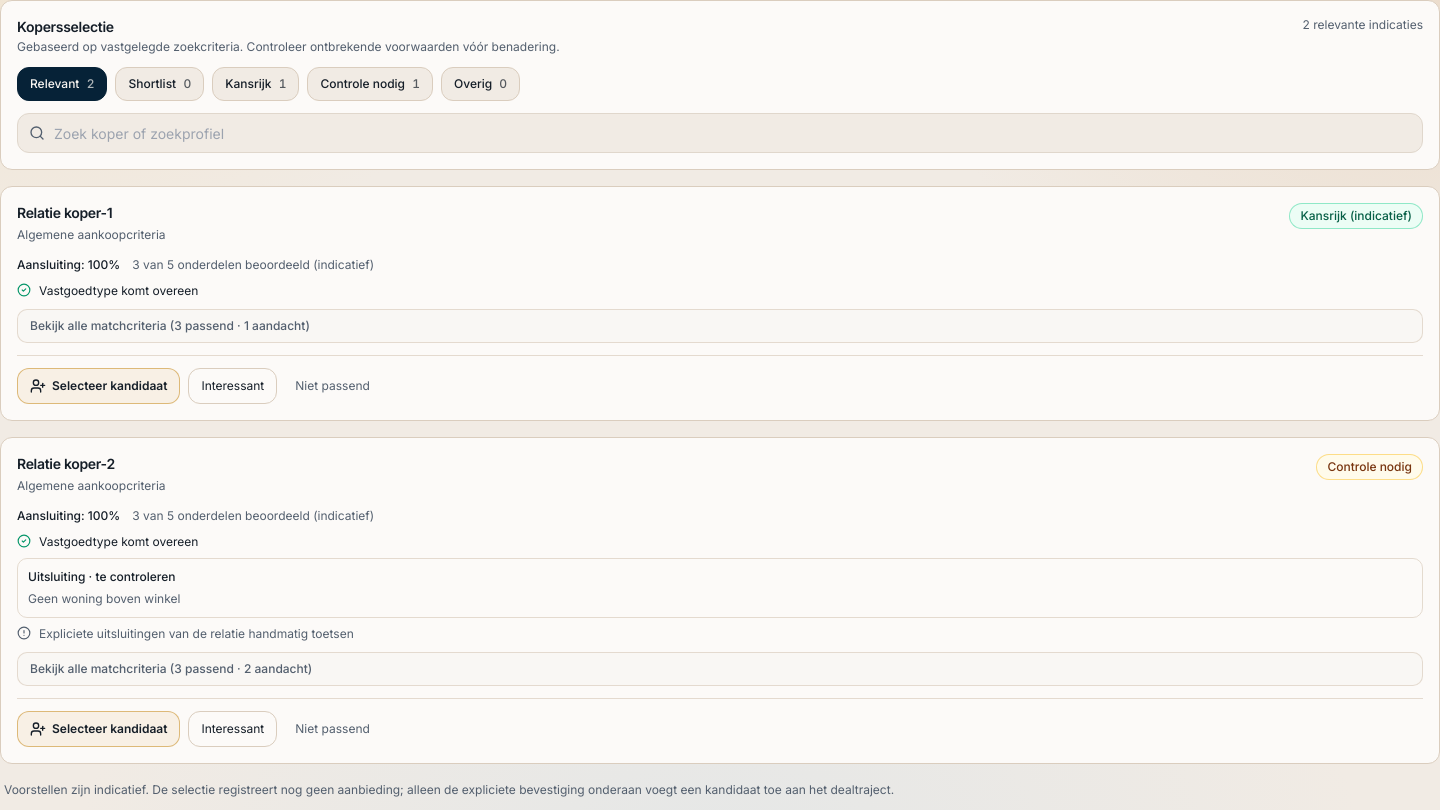
Test: Match-UI: professionele shortlist met controlepunten › laat zoeken en filteren zonder horizontaal schuivende knoppen toe
Expected: the button "Kansrijk 1" is shown, x1=212 y1=67 x2=299 y2=101
Step 1. Click the button "Controle nodig 1" → point(370, 84), box x1=307 y1=67 x2=433 y2=101
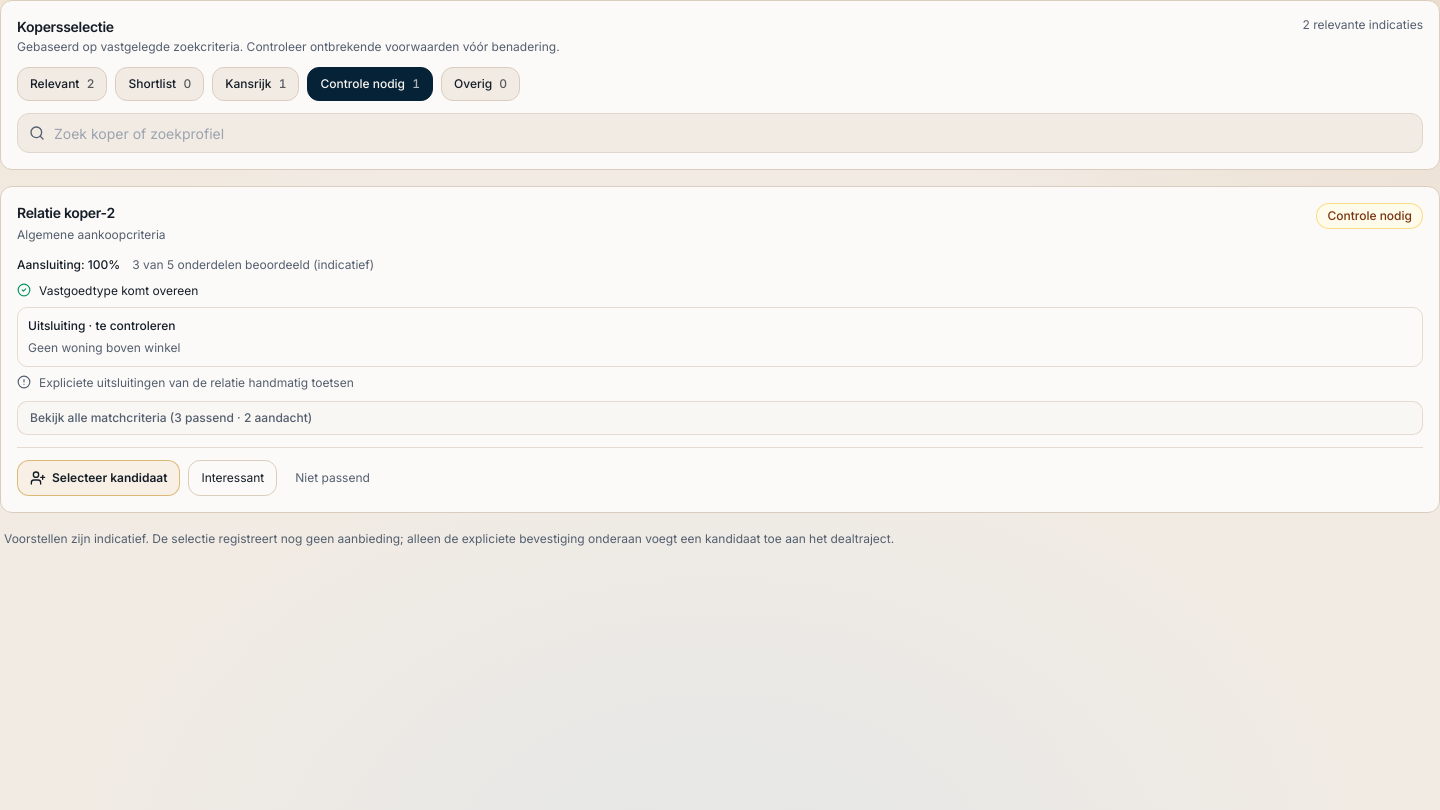
Expected: the text "Expliciete uitsluitingen van de relatie handmatig toetsen" is shown, x1=39 y1=373 x2=354 y2=393
Result: the number of elements with test id "match-kandidaat-kaart" is 1 at x1=0 y1=186 x2=1439 y2=513
Step 2. Click the button "Relevant 2" → point(62, 84), box x1=17 y1=67 x2=107 y2=101
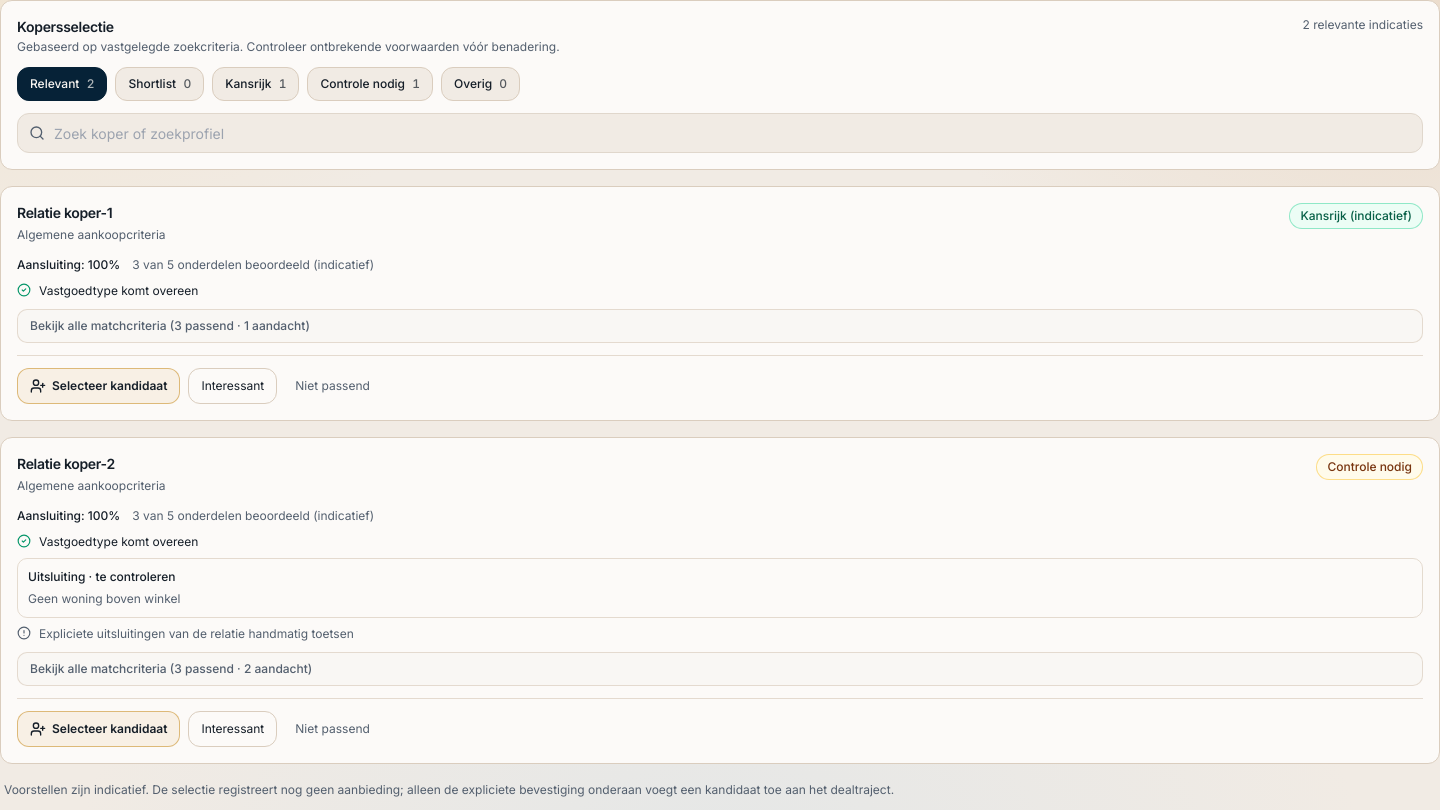
Step 3. Type "koper-1" into the field with placeholder "Zoek koper of zoekprofiel" → point(720, 133), box x1=17 y1=113 x2=1423 y2=153
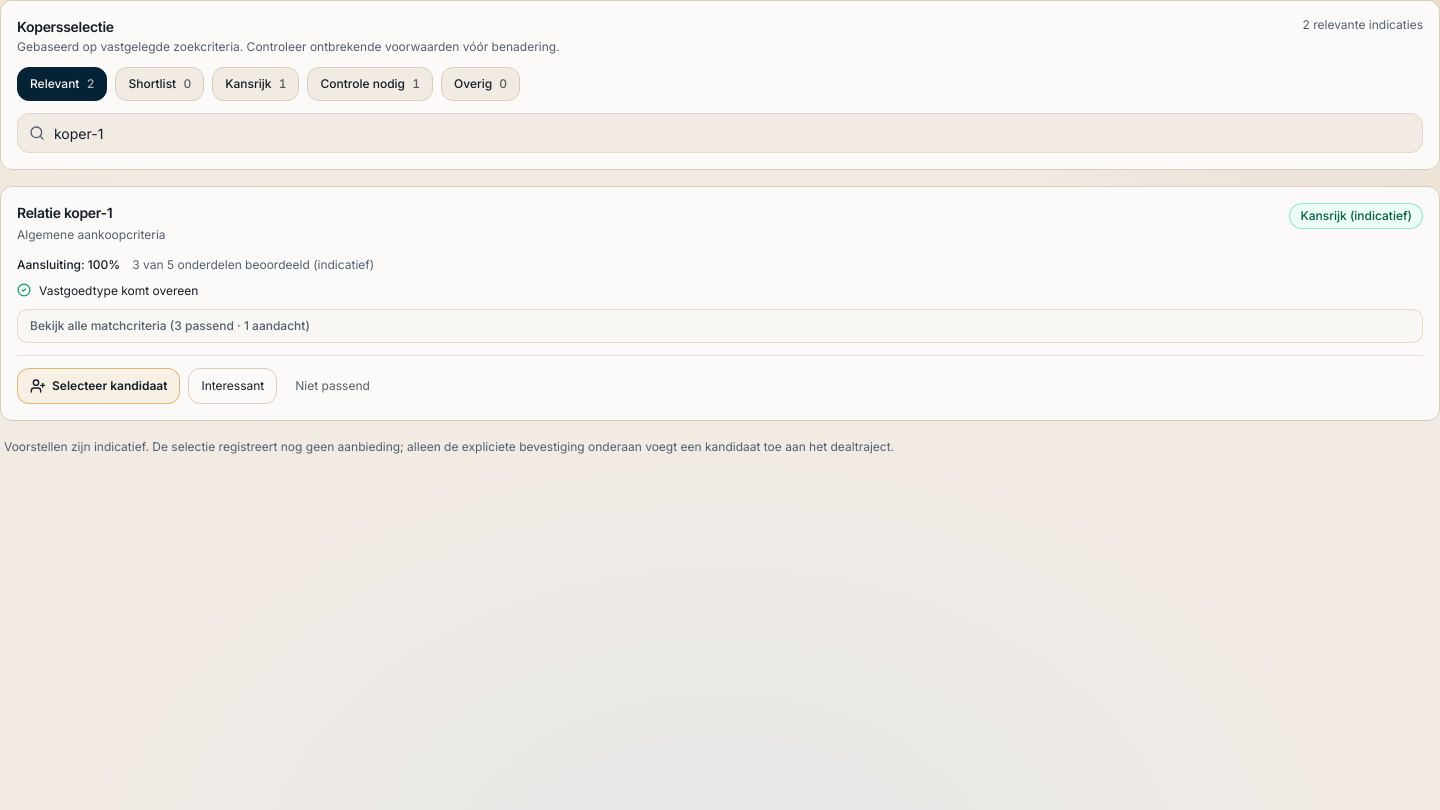
Result: the number of elements with test id "match-kandidaat-kaart" is 1 at x1=0 y1=186 x2=1439 y2=421
